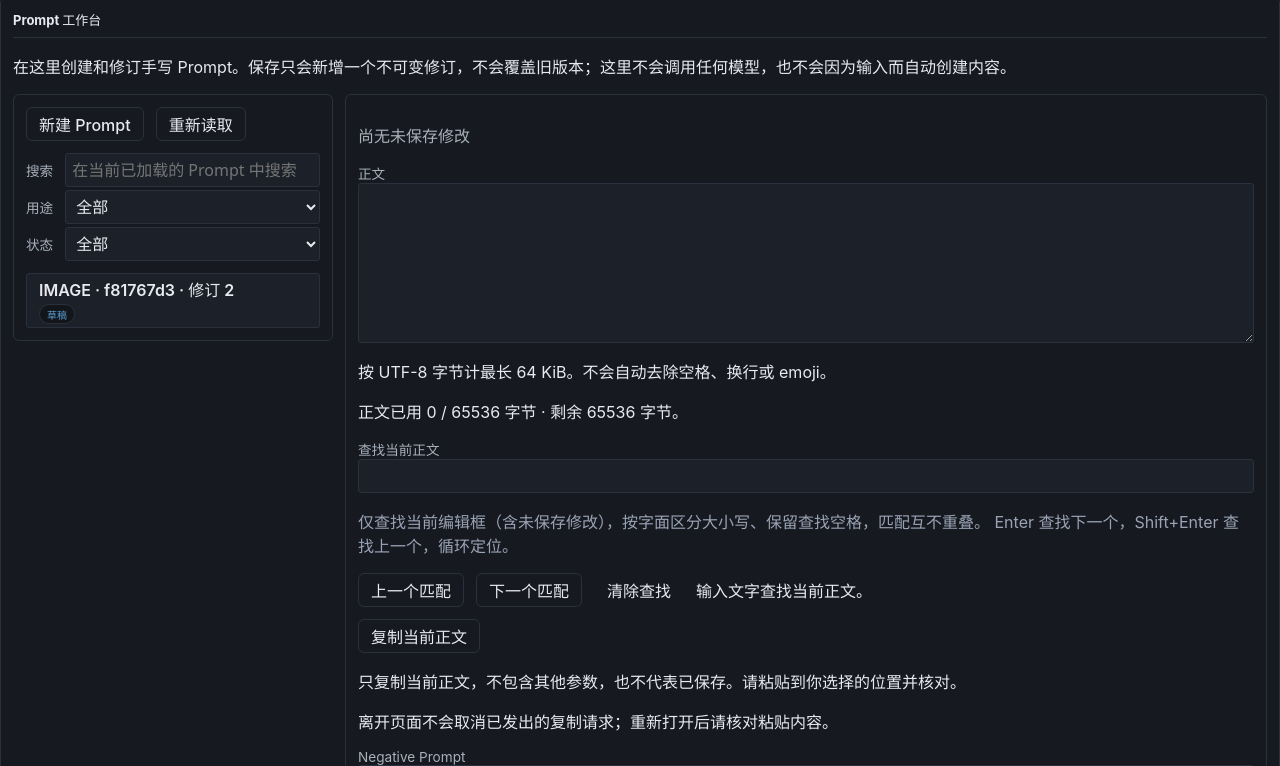
R3-U3-C1 Prompt workspace (jsdom) › keeps the draft and explains it when the server refuses with 409
This screenshot has width=1280, height=766.
Click the button "IMAGE · f81767d3 · 修订 2 草稿".
click(173, 300)  # box [26,273,320,328]
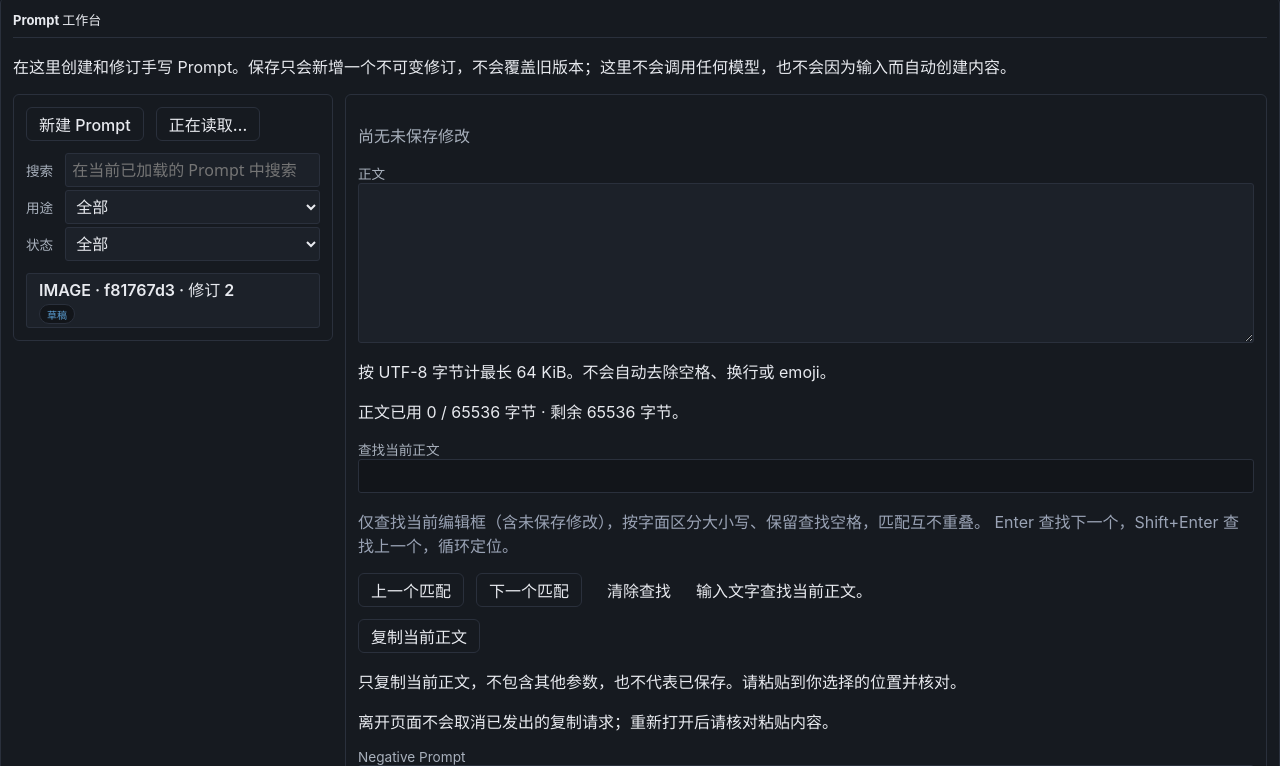
Type "我的宝贵草稿" into the text box labelled "正文".
click(806, 263); type("我的宝贵草稿")  # box [358,183,1254,343]
(page scrolled)
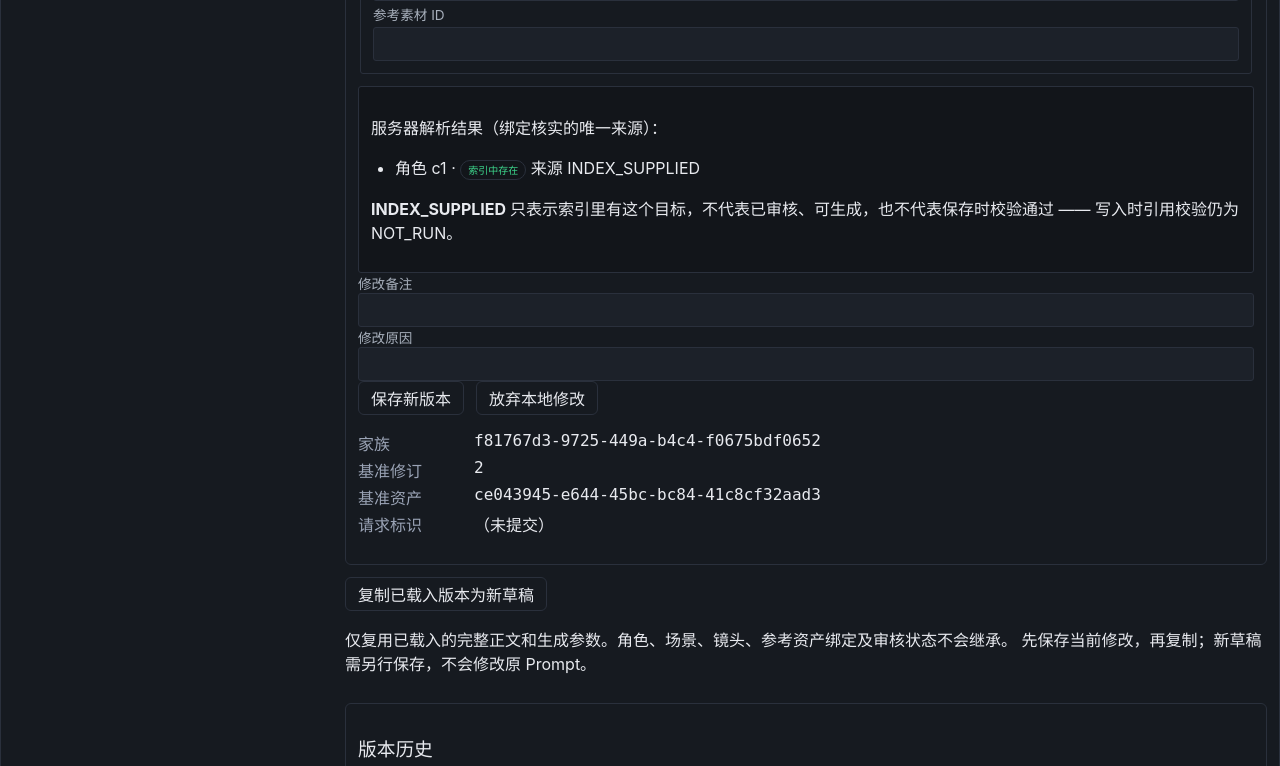
Click the button "保存新版本".
click(411, 398)  # box [358,380,464,414]
(page scrolled)
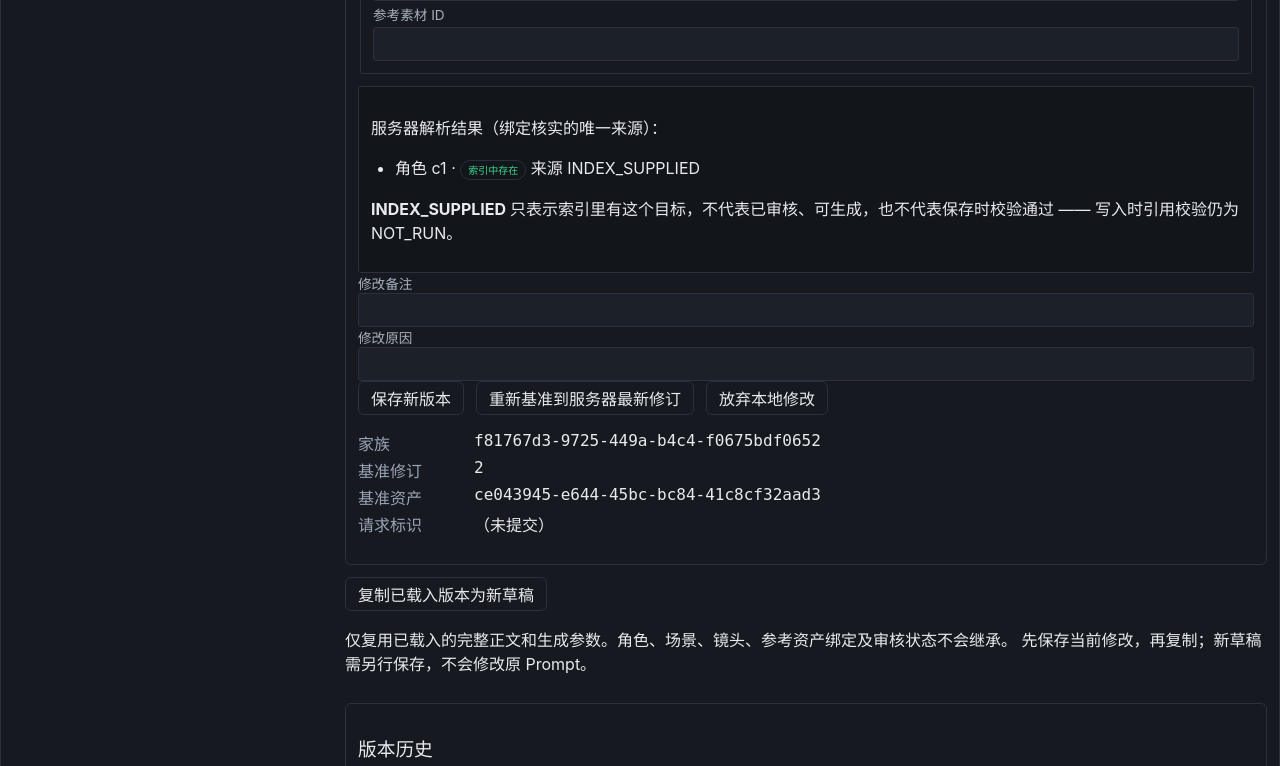
Now the button "重新基准到服务器最新修订" is shown, box [476,380,694,414]
